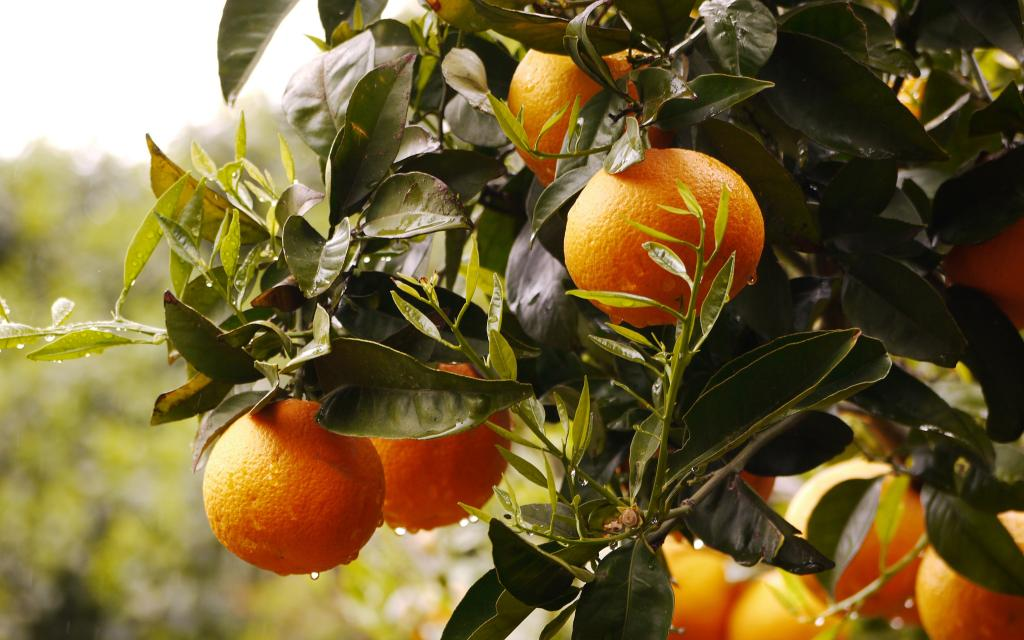orange: (566, 144, 763, 330), (201, 398, 382, 570), (364, 356, 514, 532), (511, 33, 680, 188), (783, 459, 939, 612), (627, 520, 750, 640), (915, 510, 1024, 639), (723, 563, 845, 640)
